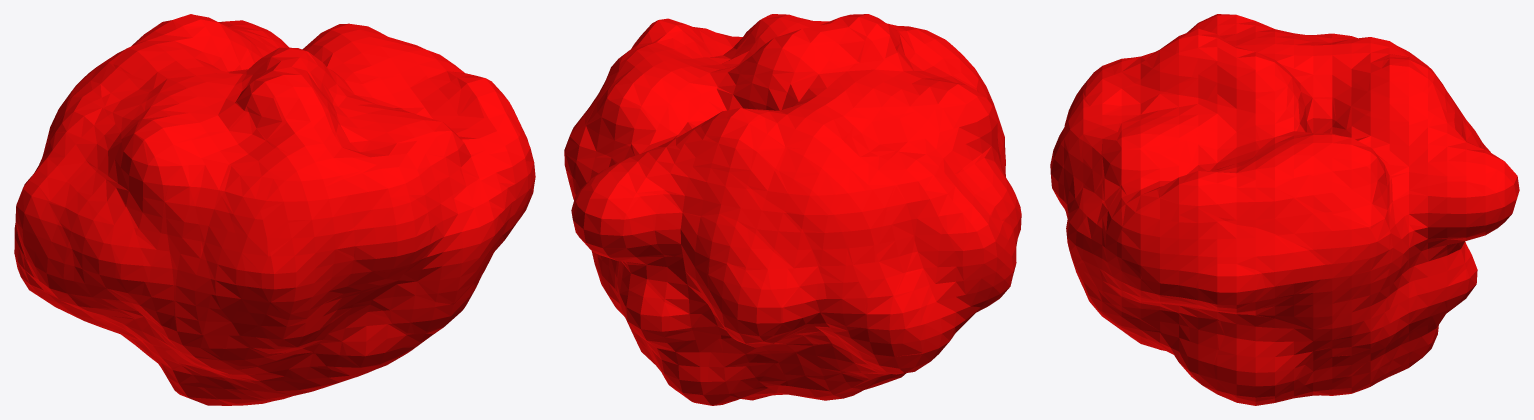
File: nemA_coarse.dae
3 renders of one model, left to right at view 1: azimuth 30°, elevation 25°; view 2: azimuth 150°, elevation 25°; view 3: azimuth 270°, elevation 25°, orthographic. The views are drawn at different scales.
Parts seen in each view (by area): view 1: nemA; view 2: nemA; view 3: nemA.
Boxes of the visible parts, <box> form: nemA: <box>14,14,535,405</box>; nemA: <box>564,14,1021,405</box>; nemA: <box>1050,14,1519,405</box>.
Bounding box in the file's own units: 61.23 × 45.16 × 58.23.
